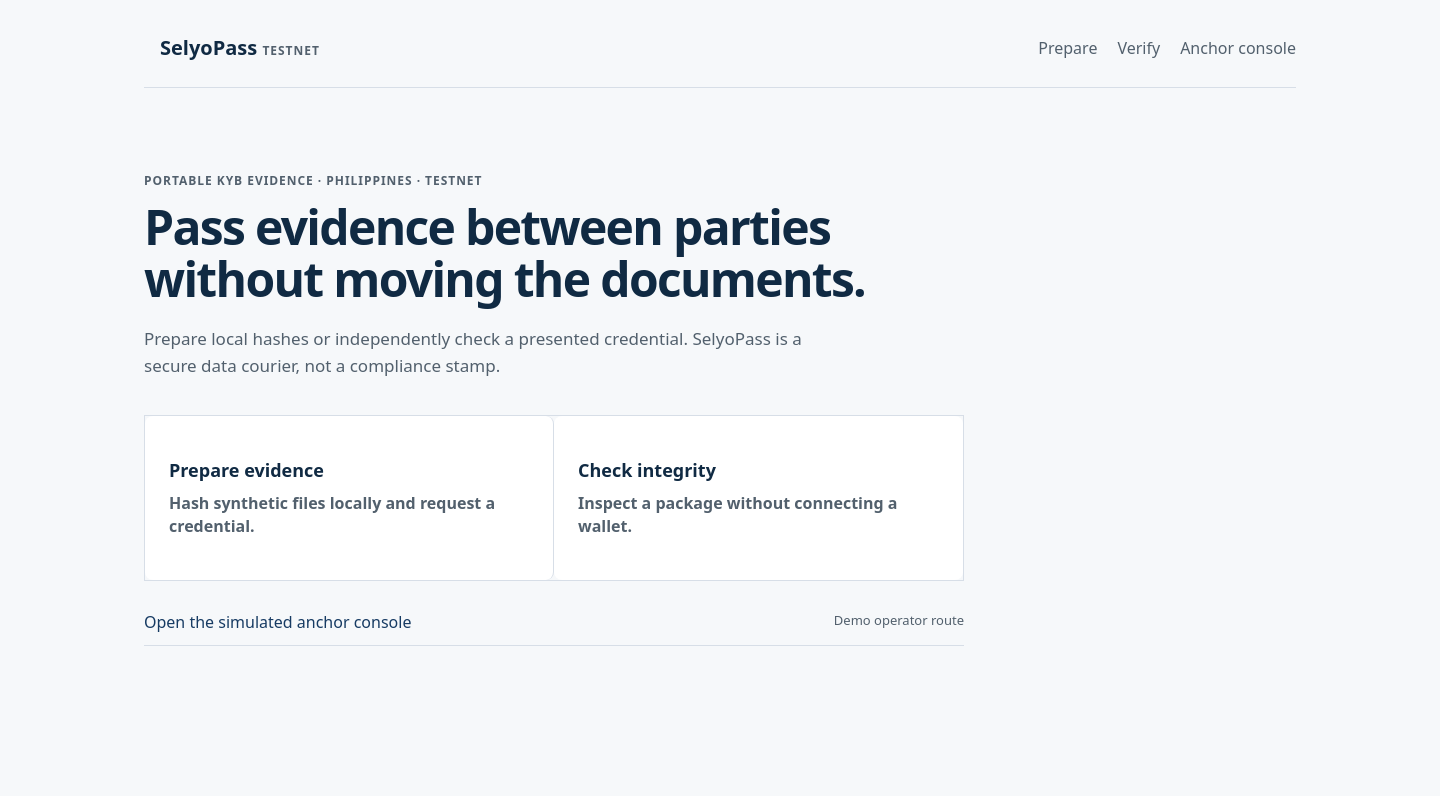
Test: SelyoPass screens › shows an explicit blocked state and route focus when contract bindings are absent
Click the button "Prepare evidence" at (350, 498), box [145,416,554,580]
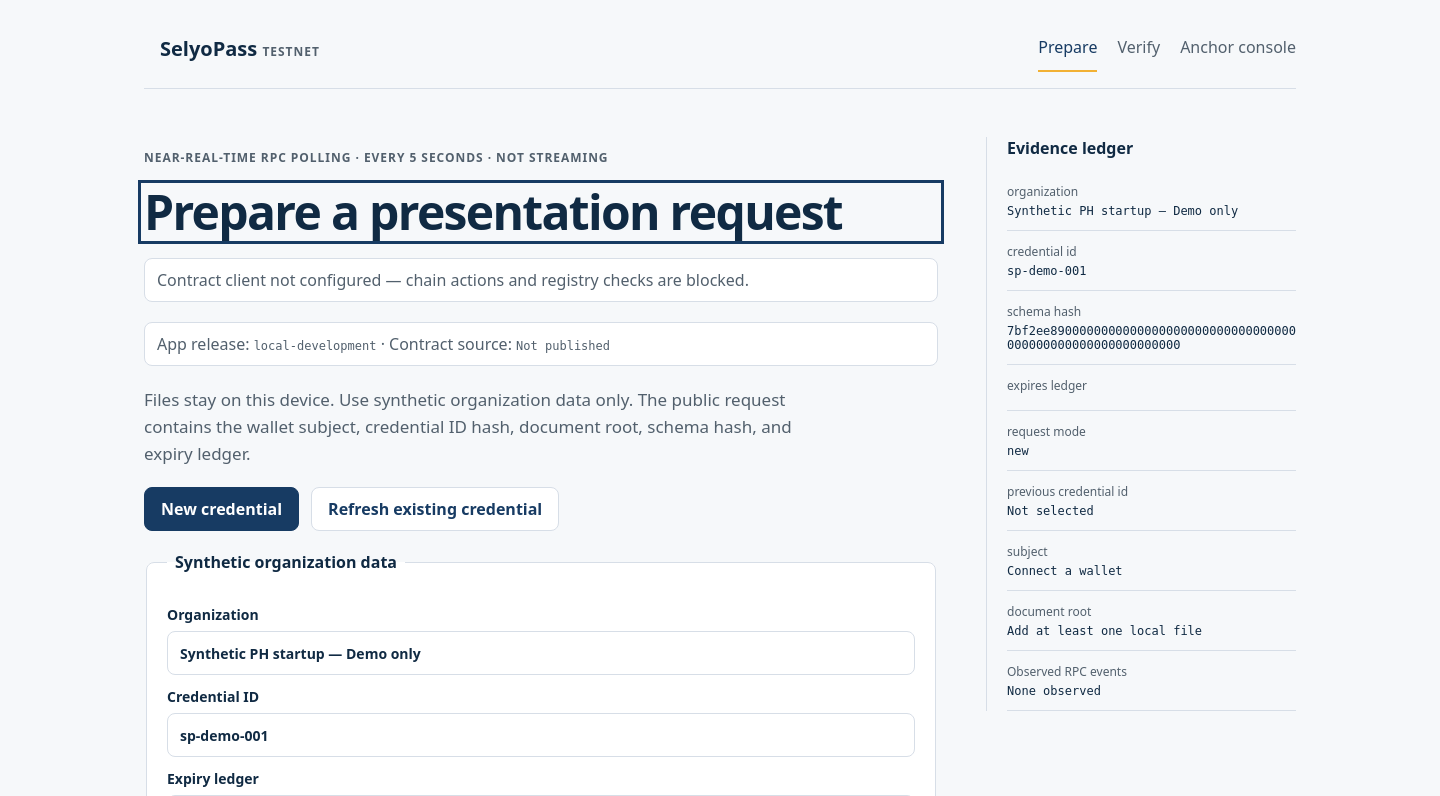
expect the message shows "not configured": met, box [157,269,749,291]
